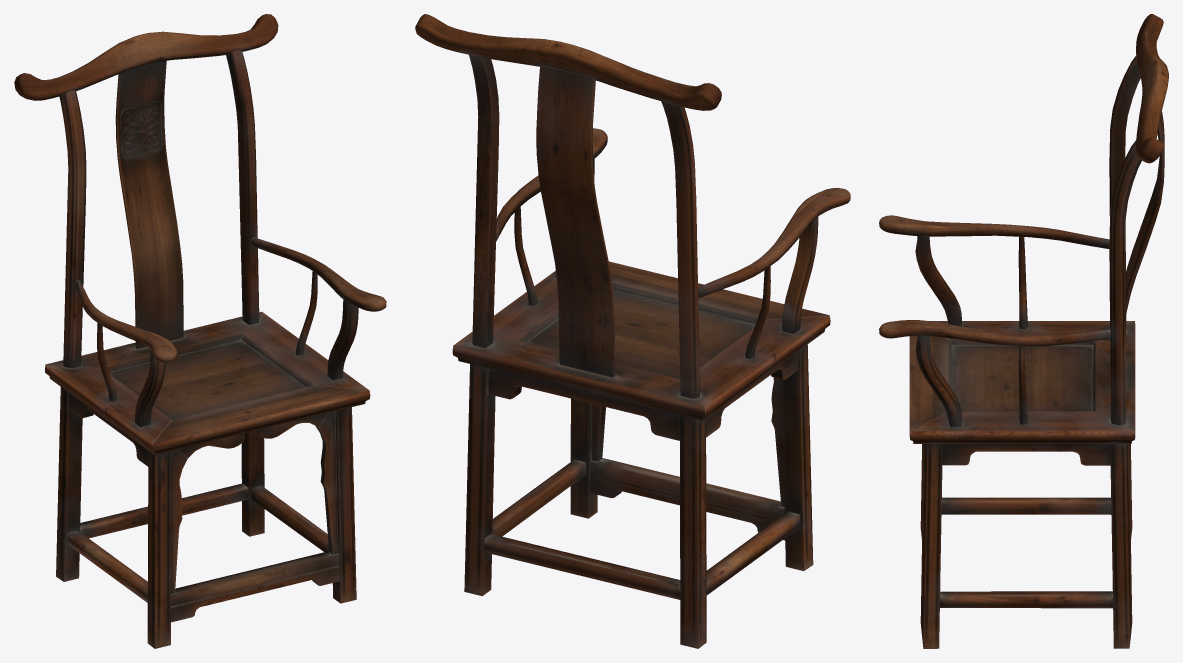
Rendered from chinese_armchair.glb.
3 renders of one model, left to right at view 1: azimuth 30°, elevation 25°; view 2: azimuth 150°, elevation 25°; view 3: azimuth 270°, elevation 25°, orthographic. The views are drawn at different scales.
Visible parts, largest first — view 1: chinese_armchair; view 2: chinese_armchair; view 3: chinese_armchair.
Part boxes in pixels (x1,y1,x2,y2): chinese_armchair: (14, 14, 386, 648); chinese_armchair: (415, 14, 850, 648); chinese_armchair: (879, 14, 1168, 648).
Bounding box in the file's own units: 0.8483 × 1.59 × 0.7886.
Materials: 1 (1 with a texture image).
